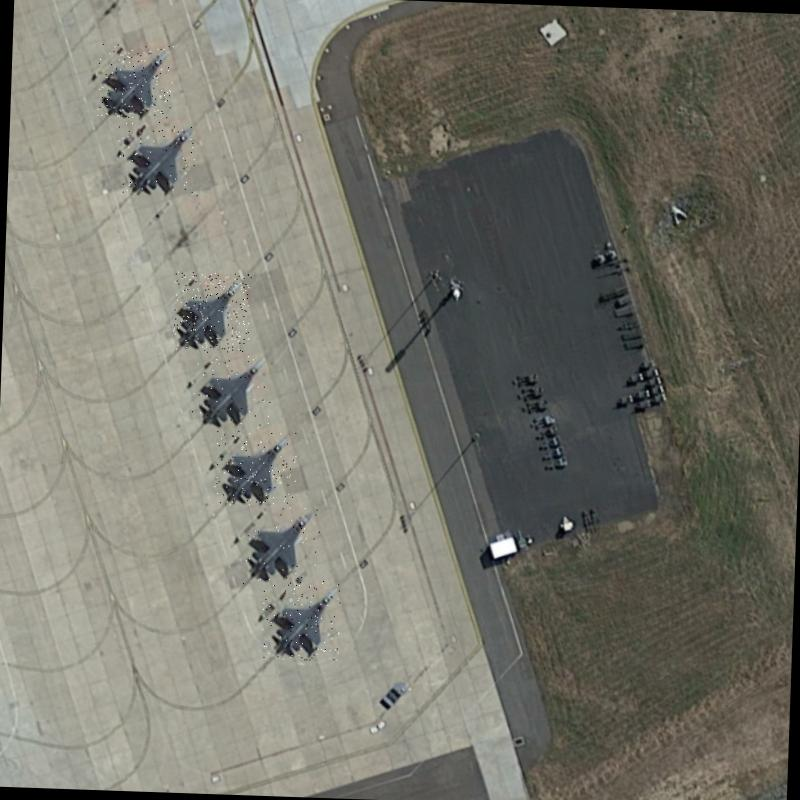A5: (240, 504, 322, 586), (261, 578, 341, 661), (213, 428, 297, 507), (190, 350, 272, 430), (116, 119, 200, 197), (172, 271, 252, 352), (96, 43, 174, 119)
